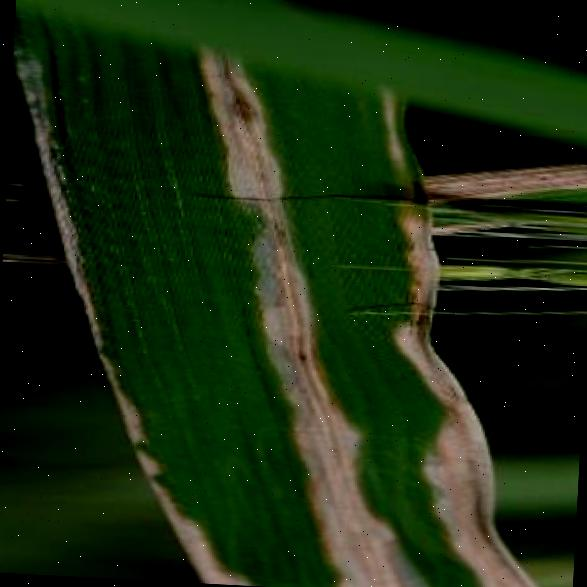Bacteria_Leaf_Blight: (98, 69, 439, 587)
